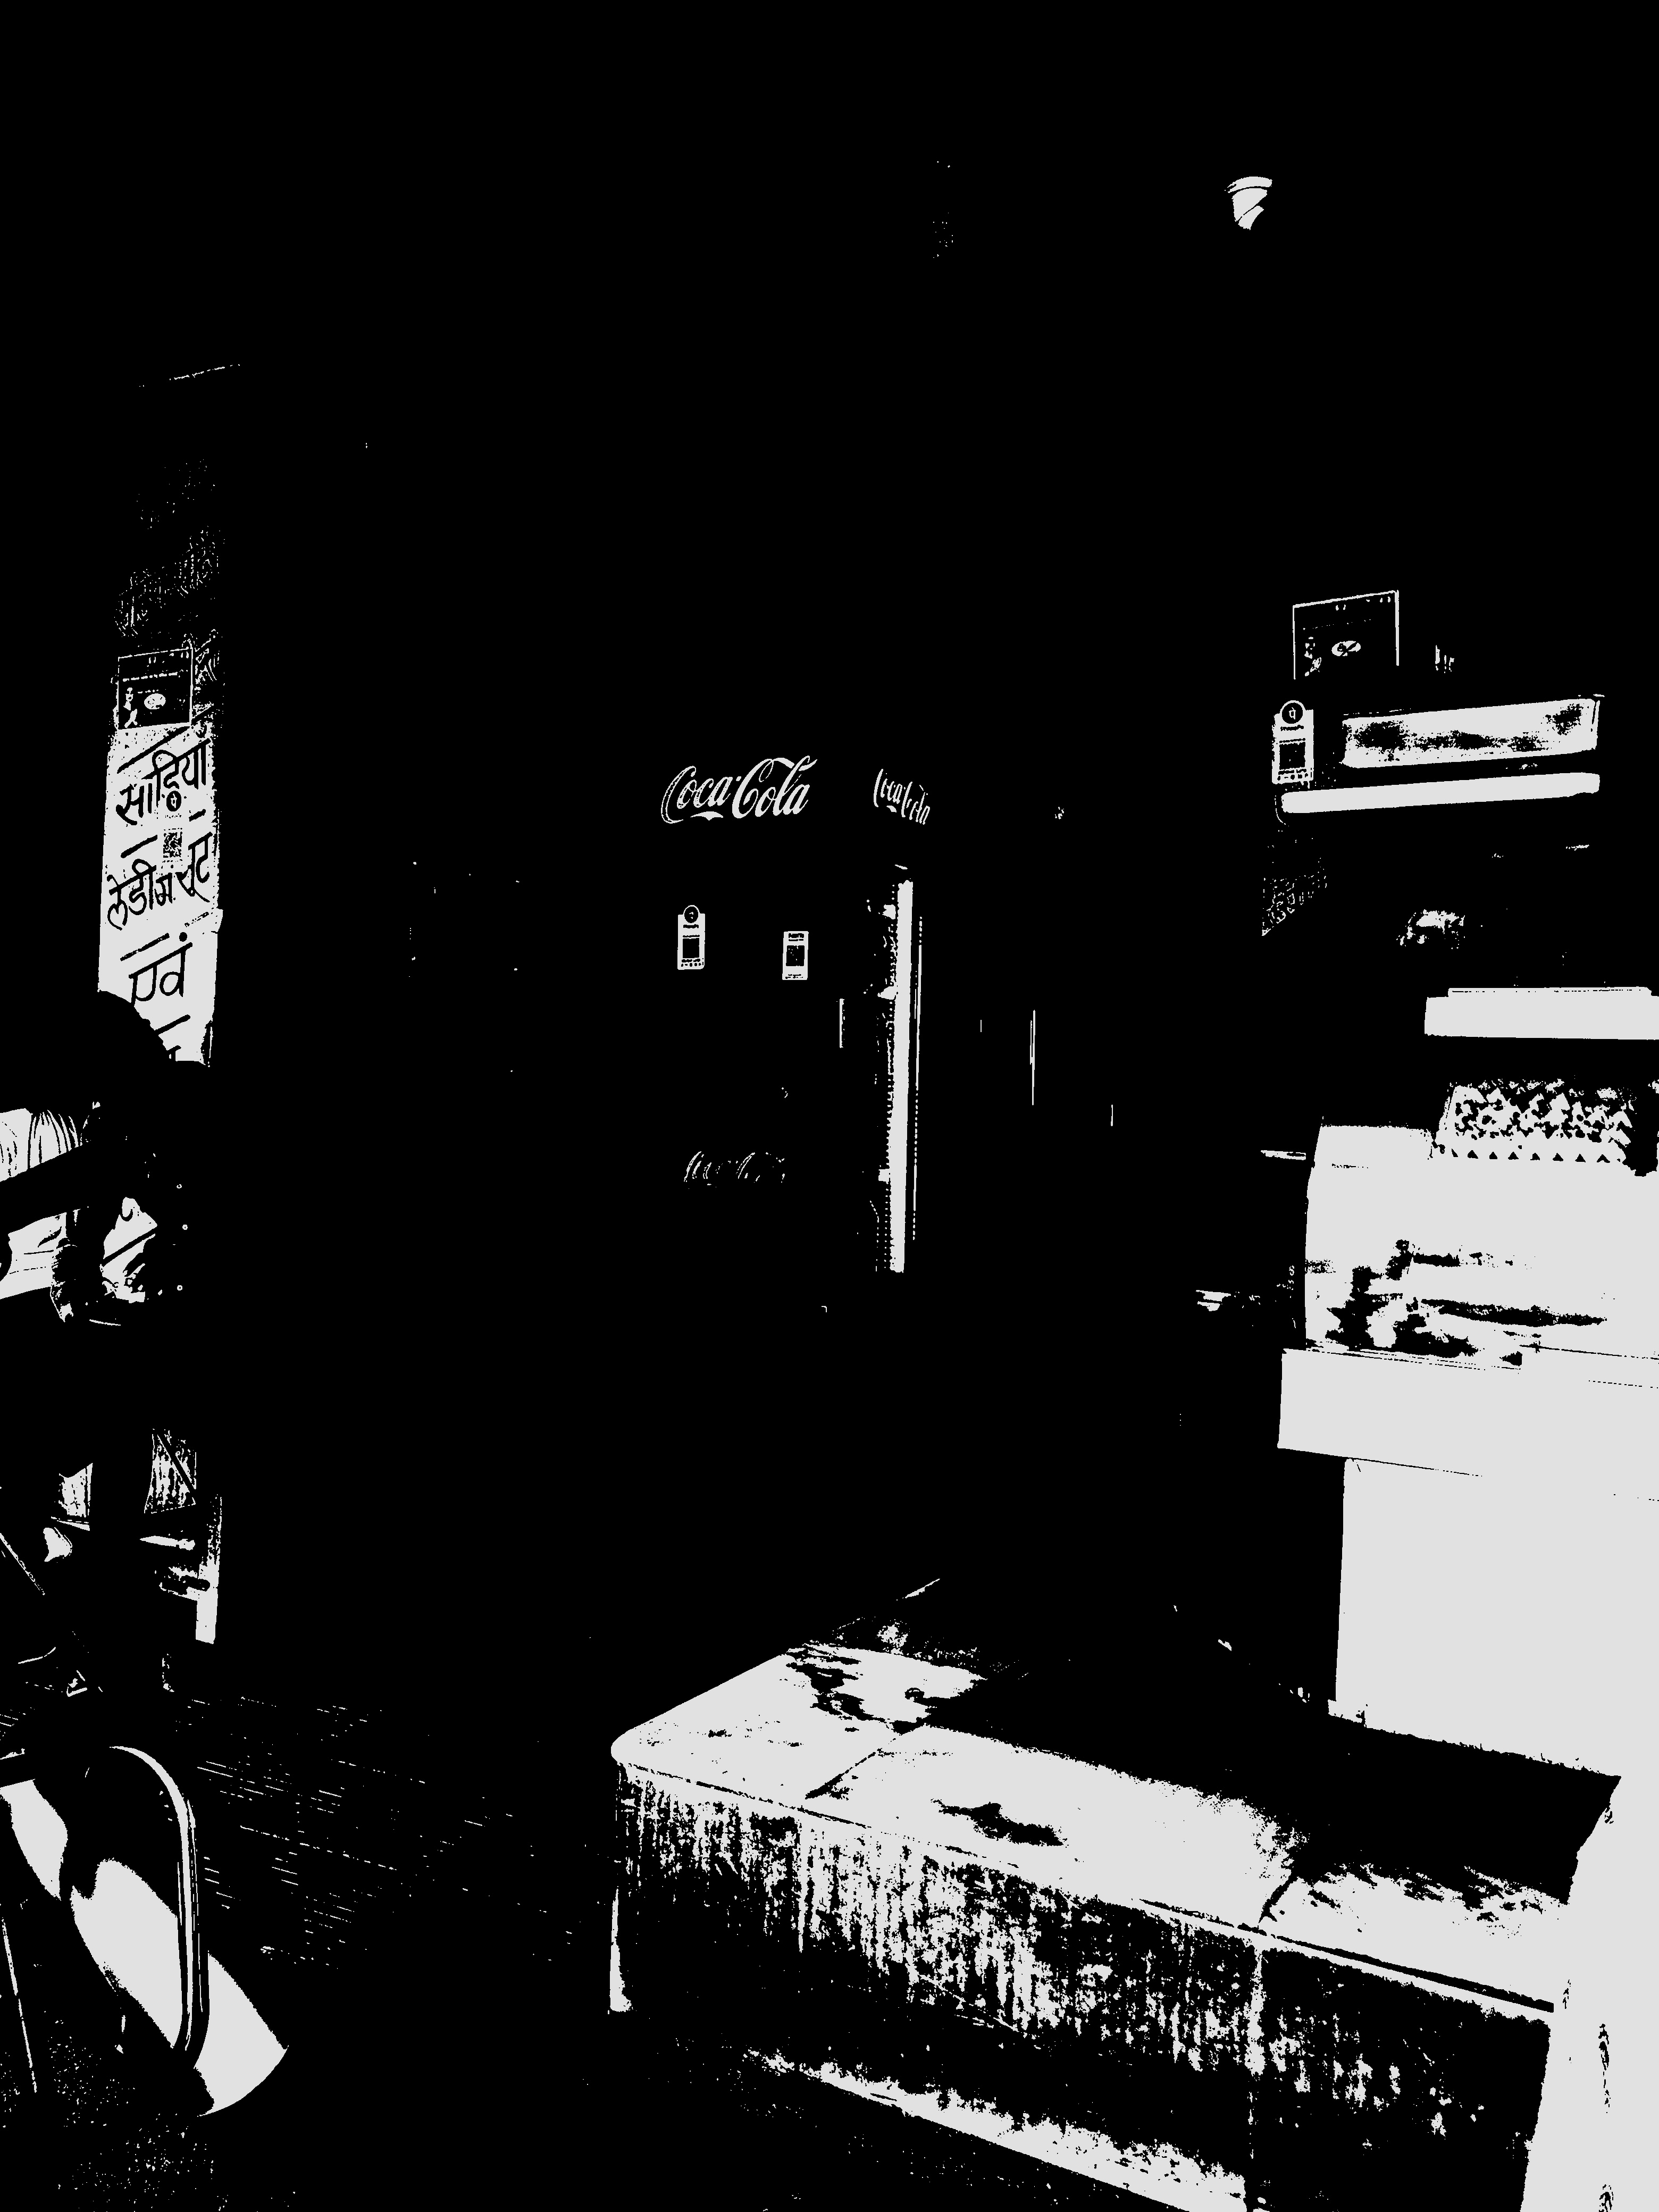text: (575, 284, 1659, 742), (237, 411, 608, 1123), (211, 7, 1105, 280), (110, 411, 214, 1029), (9, 17, 190, 361)
